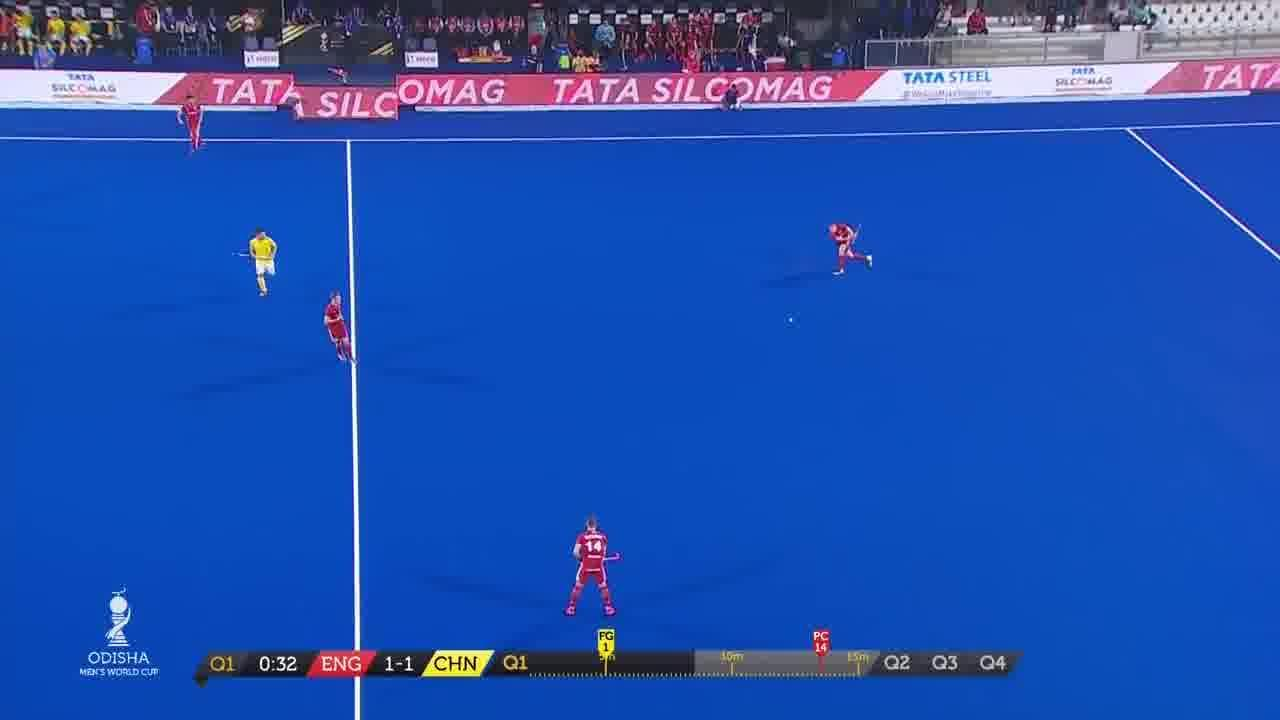ball: (783, 314, 798, 324)
